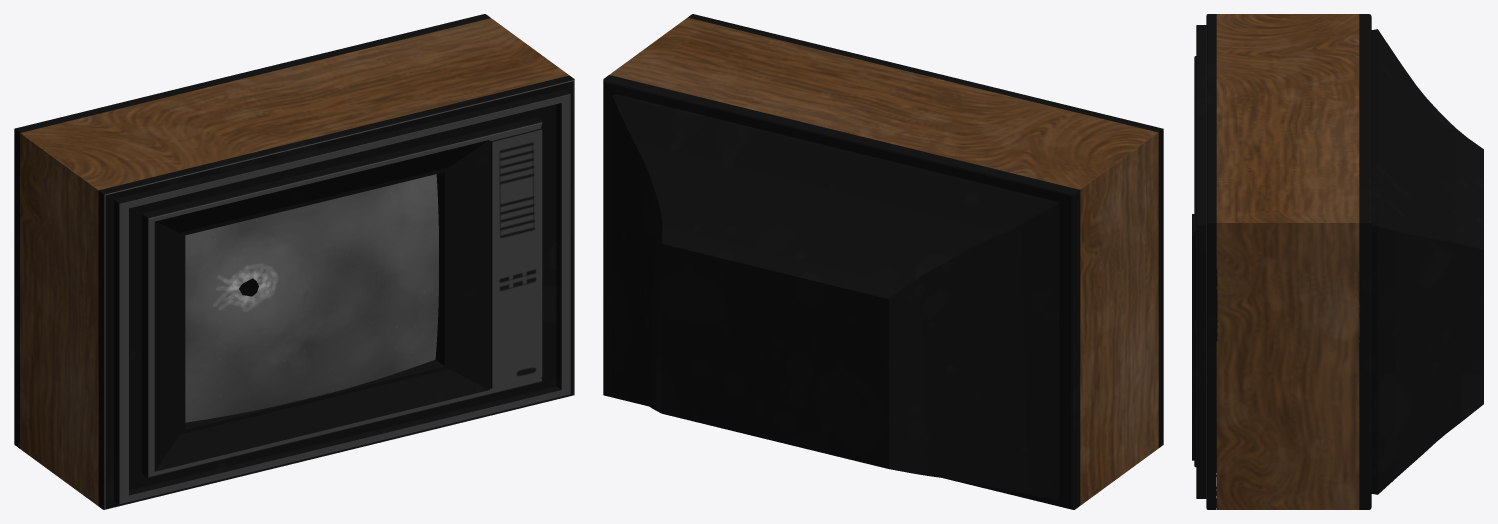
3 renders of one model, left to right at view 1: azimuth 30°, elevation 25°; view 2: azimuth 150°, elevation 25°; view 3: azimuth 270°, elevation 25°, orthographic. The views are drawn at different scales.
Parts seen in each view (by area): view 1: TV; view 2: TV; view 3: TV.
Part boxes in pixels (x1,y1,x2,y2): TV: (14,14,574,509); TV: (603,14,1163,509); TV: (1192,14,1483,509).
Size of the model in its own units: 312 by 200 by 184.
